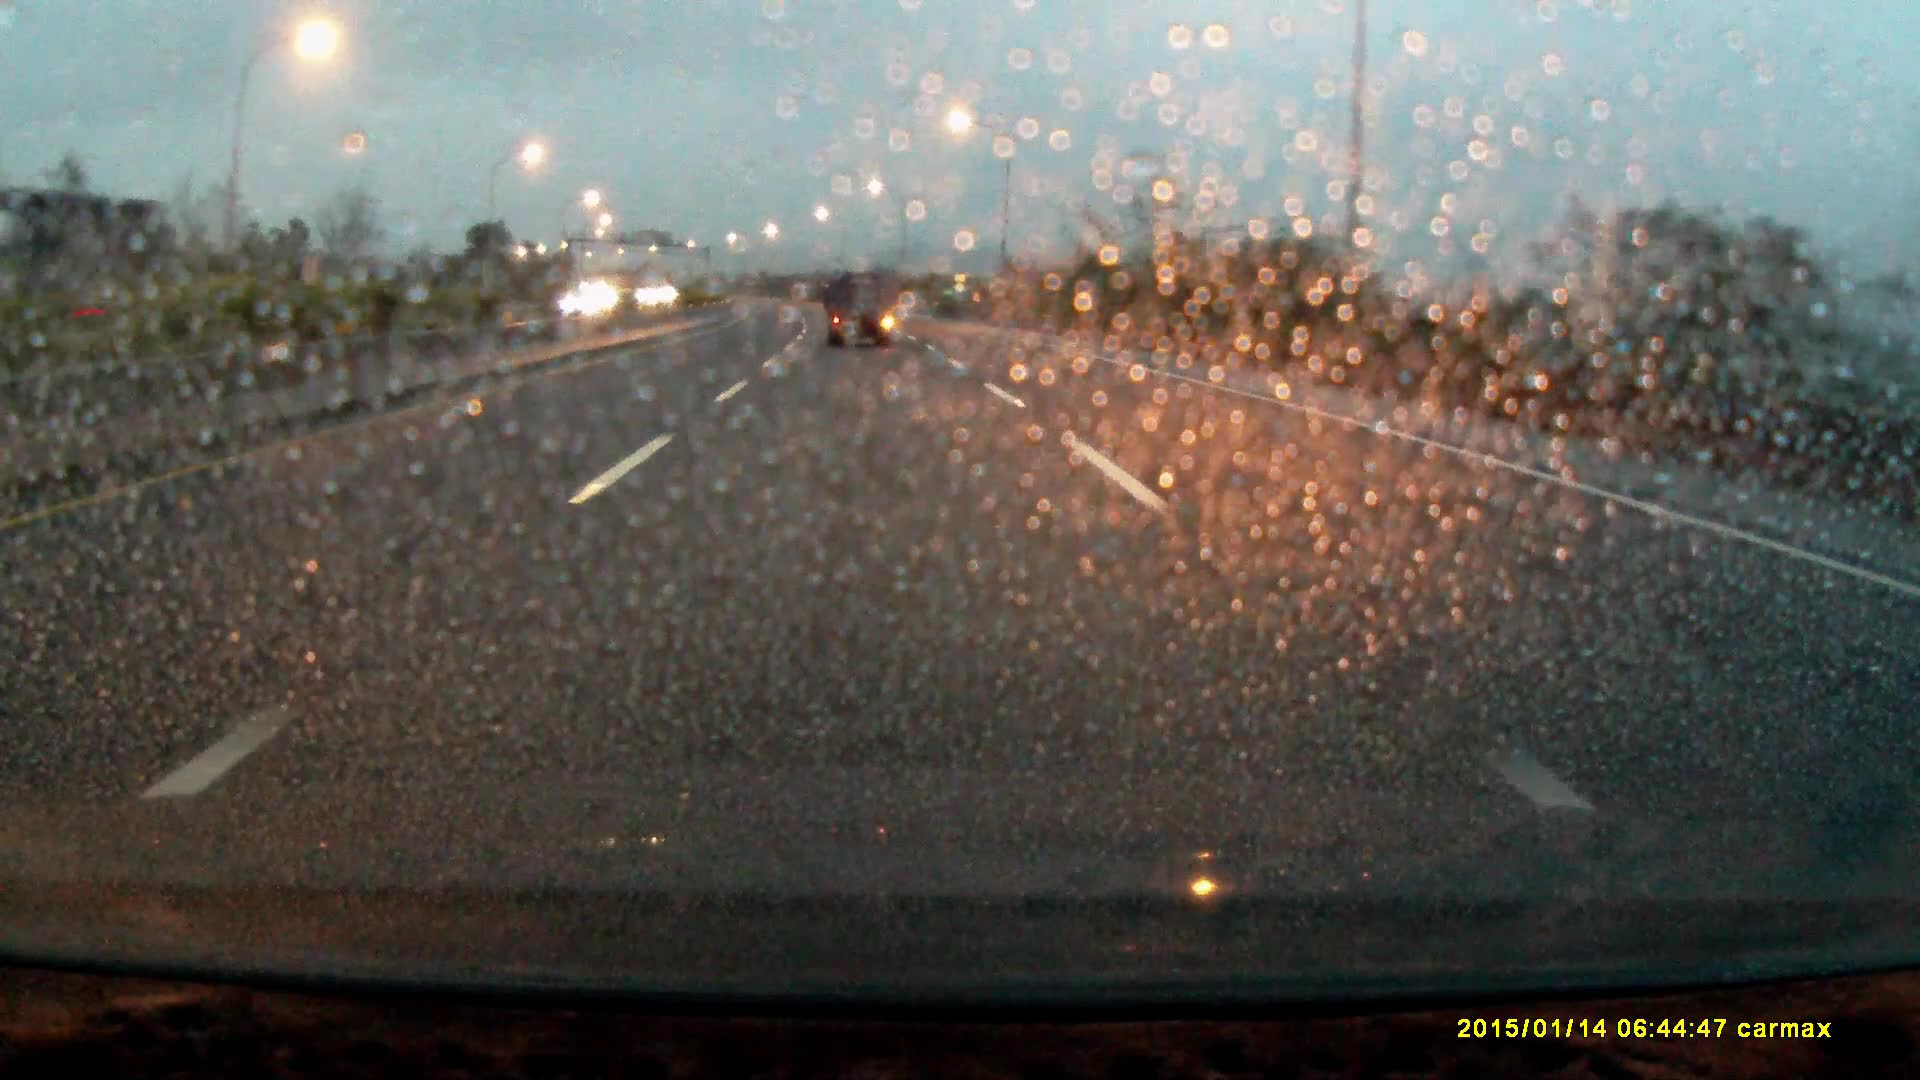vehicle: (825, 277, 898, 349), (567, 289, 618, 315)
